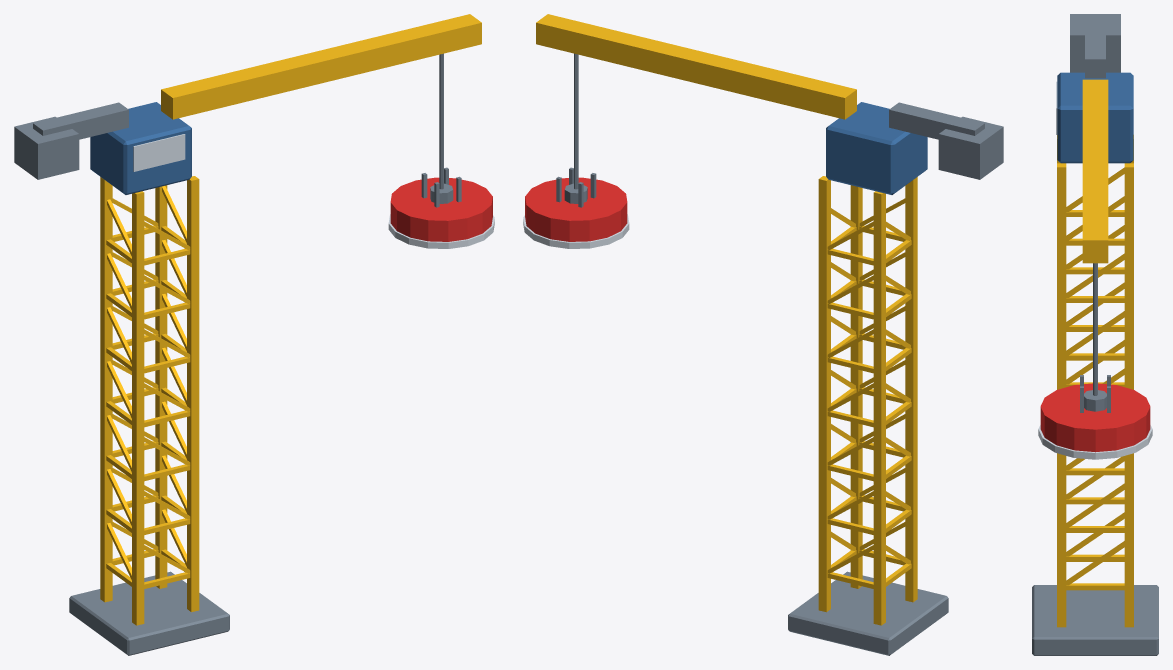
Rendered from prop_magnet_crane.fbx.
3 views of the same model, side by side, from view 1: azimuth 30°, elevation 25°; view 2: azimuth 150°, elevation 25°; view 3: azimuth 270°, elevation 25° (orthographic). The views are drawn at different scales.
Visible parts, largest first — view 1: prop_magnet_crane; view 2: prop_magnet_crane; view 3: prop_magnet_crane.
Boxes of the visible parts, x1,y1,x2,y2 form: prop_magnet_crane: (14,14,494,655); prop_magnet_crane: (523,14,1003,655); prop_magnet_crane: (1032,14,1158,655).
Bounding box in the file's own units: 26.9 × 29.2 × 6.
